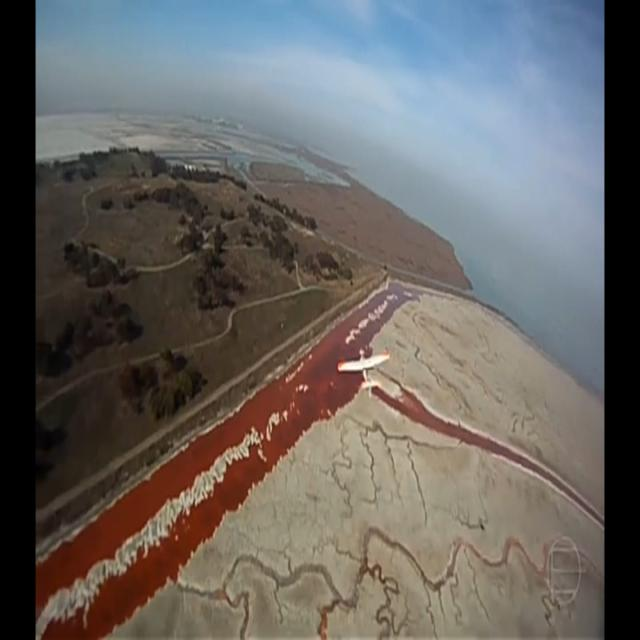iha: (337, 345, 391, 398)
